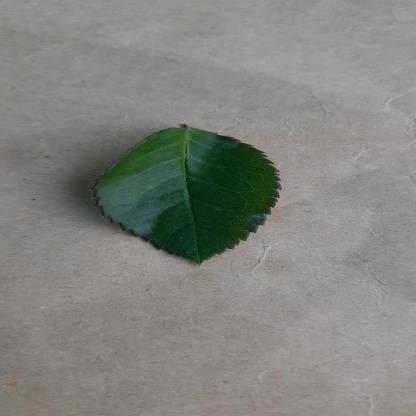normal: (88, 122, 286, 266)
